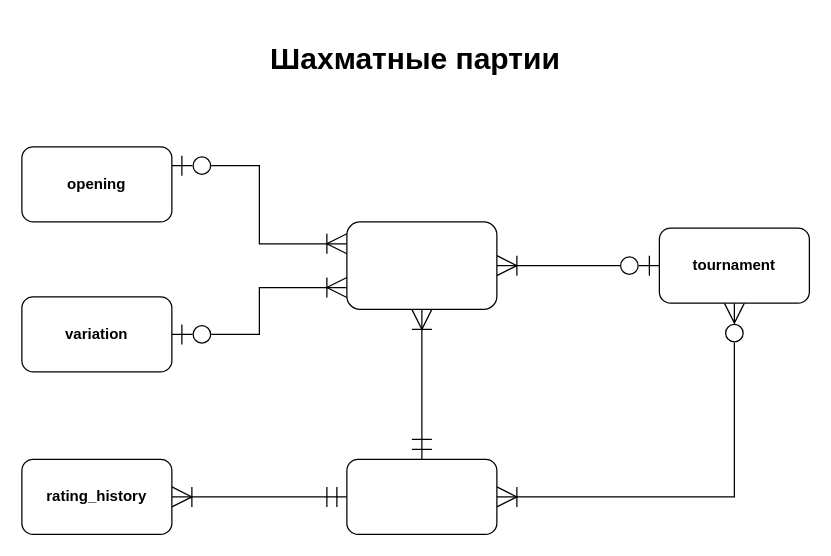
Some shapes in this 831 by 556 pixel diagram are drawn without their labels. The shapes that lost their labels are listed below. From the top down, each one's centre as x and y in pixels, then its label:
At (421,265): "game".
At (421,496): "player".
